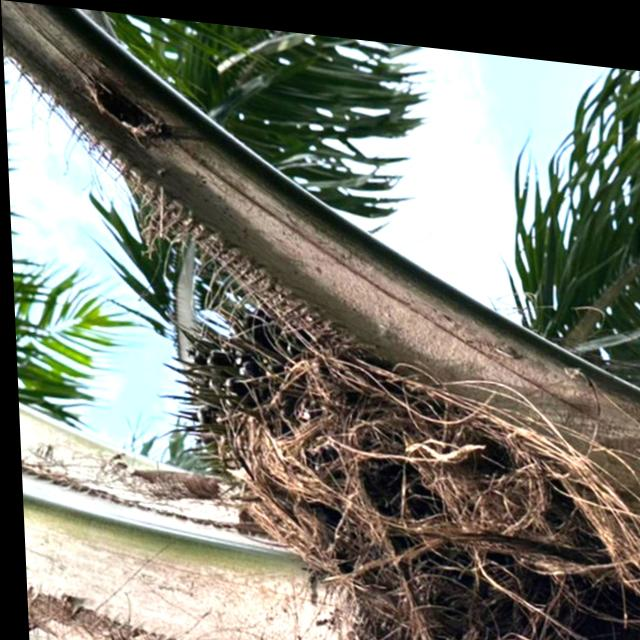unripe: (195, 286, 640, 640)
